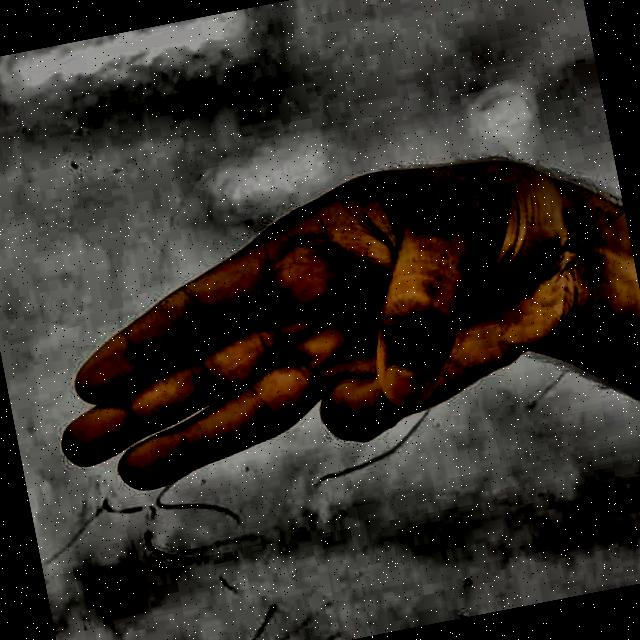Ma: (7, 125, 640, 545)
